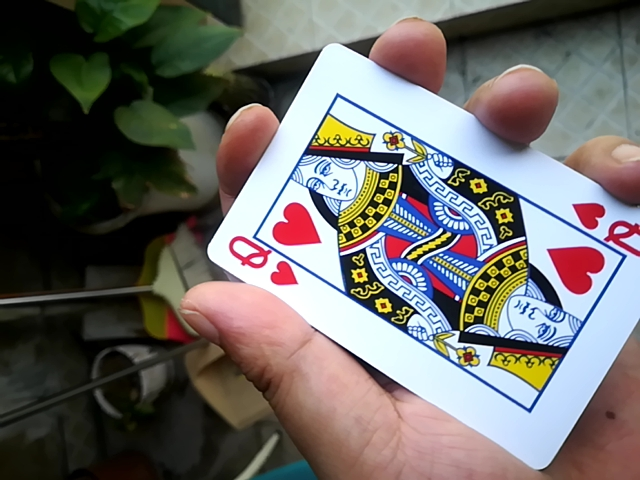hx q: (199, 42, 640, 466)
